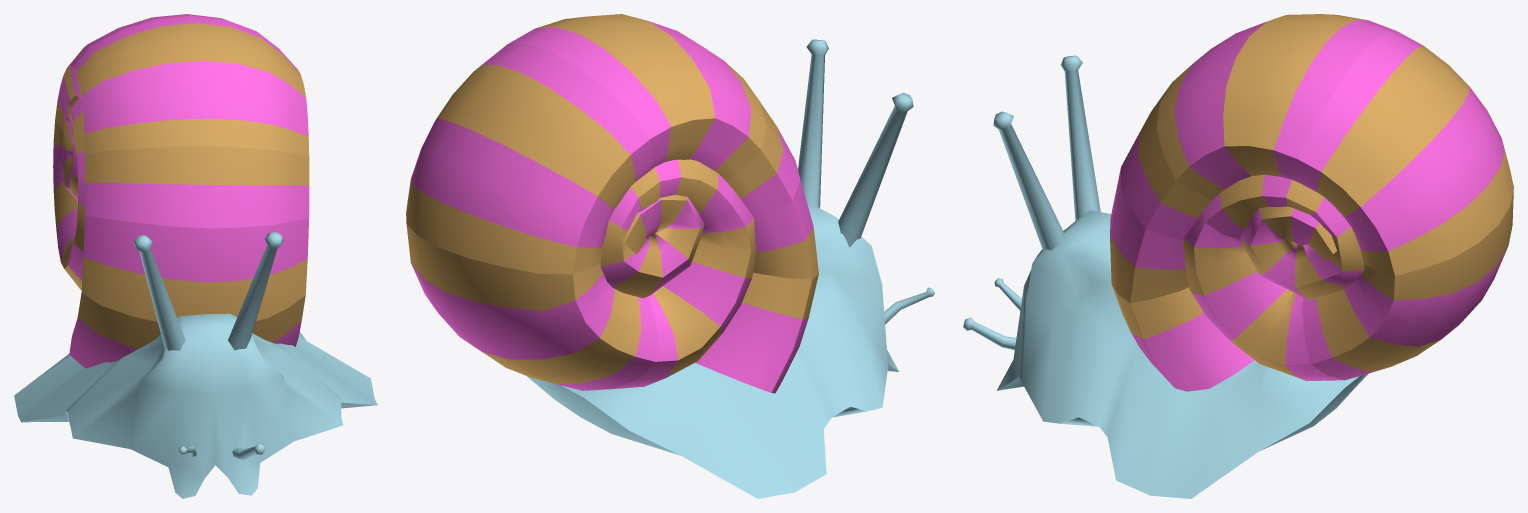
The model's file is Snail.fbx.
The picture shows the model from 3 angles, left to right: view 1: azimuth 30°, elevation 25°; view 2: azimuth 150°, elevation 25°; view 3: azimuth 270°, elevation 25°; orthographic projection. The views are drawn at different scales.
Visible parts, largest first — view 1: Snail; view 2: Snail; view 3: Snail.
Boxes of the visible parts, x1,y1,x2,y2 form: Snail: (14,14,377,498); Snail: (406,14,934,498); Snail: (963,14,1513,498).
Bounding box in the file's own units: 0.6743 × 0.7271 × 0.906.
